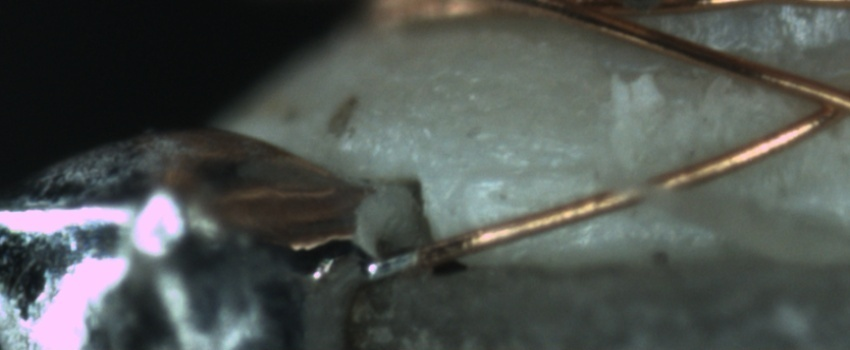CL: (791, 74, 850, 131)
DL: (459, 139, 598, 204)
TS: (361, 248, 415, 281)
